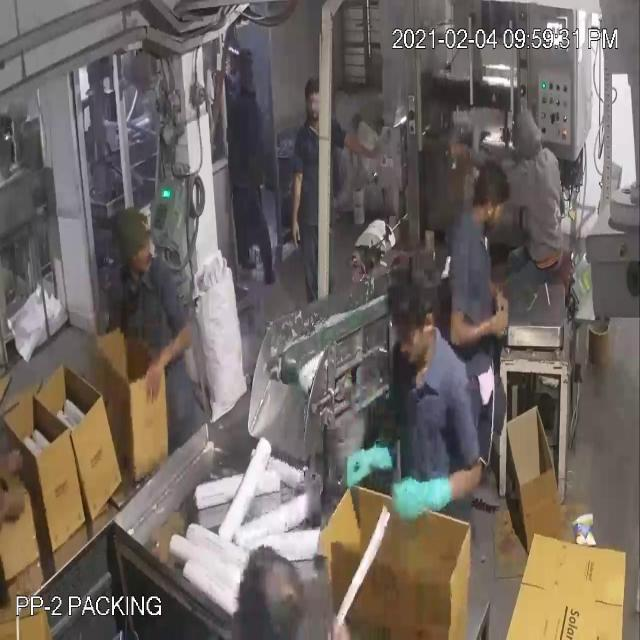No_Gloves: (16, 46, 480, 500)
